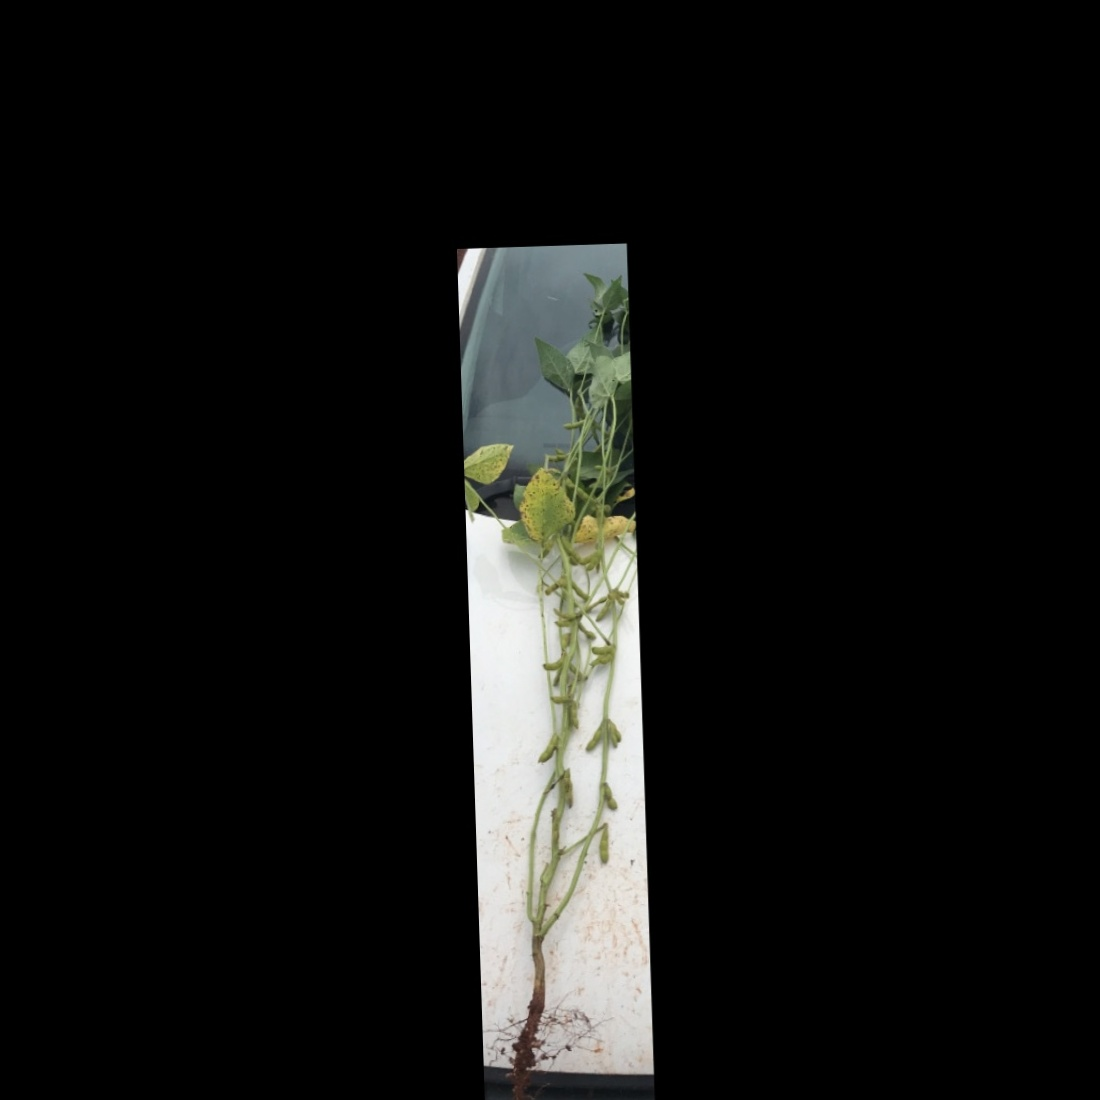pod: (595, 823, 611, 867), (534, 733, 557, 764), (601, 780, 621, 815), (593, 595, 614, 623), (584, 724, 603, 753), (581, 546, 601, 572), (571, 578, 592, 601), (586, 644, 615, 658), (541, 657, 564, 672)
soy: (459, 296, 649, 1075)
